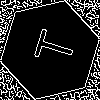T: (25, 25, 77, 68)
